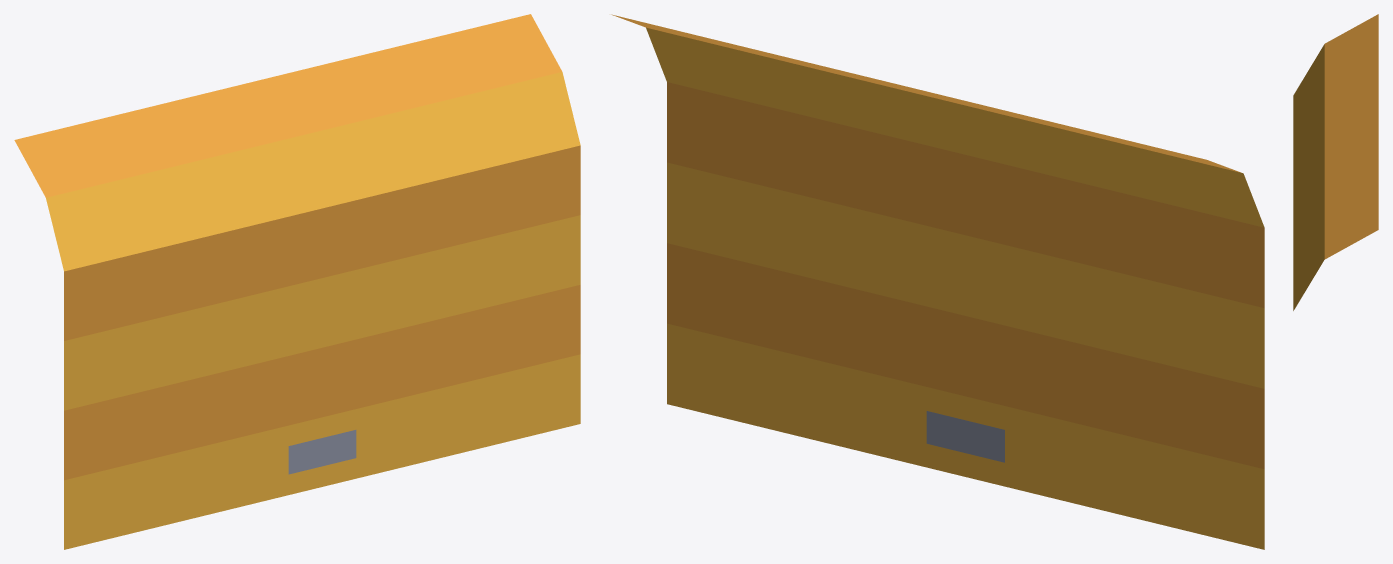
Rendered from DoorWideHalf-transformed.glb.
3 views of the same model, side by side, from view 1: azimuth 30°, elevation 25°; view 2: azimuth 150°, elevation 25°; view 3: azimuth 270°, elevation 25° (orthographic). The views are drawn at different scales.
Visible parts, largest first — view 1: door-wide-half; view 2: door-wide-half; view 3: door-wide-half.
Boxes of the visible parts, x1,y1,x2,y2 form: door-wide-half: [14, 14, 580, 549]; door-wide-half: [611, 14, 1264, 549]; door-wide-half: [1293, 14, 1378, 310].
Size of the model in its own units: 1.8 by 1.24 by 0.3001.
